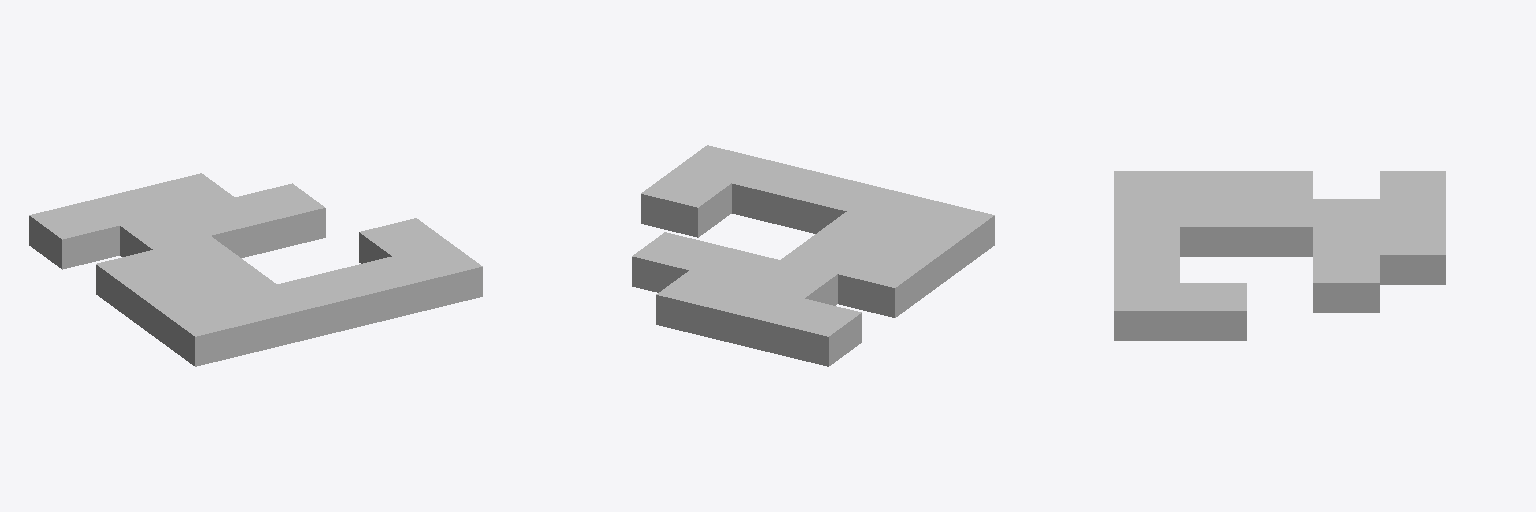
The model's file is 88f_block.obj.
3 renders of one model, left to right at view 1: azimuth 30°, elevation 25°; view 2: azimuth 150°, elevation 25°; view 3: azimuth 270°, elevation 25°, orthographic.
Visible parts, largest first — view 1: foil.block.0.4_block.5530, foil.block.0.0_block.5526, foil.block.4.0_block.5541, foil.block.2.0_block.5536, foil.block.3.3_block.5540, foil.block.1.0_block.5531, foil.block.3.0_block.5539, foil.block.2.3_block.5537, foil.block.0.2_block.5528, foil.block.0.1_block.5527, foil.block.4.1_block.5542, foil.block.1.3_block.5534 (+4 smaller); view 2: foil.block.4.1_block.5542, foil.block.0.4_block.5530, foil.block.0.2_block.5528, foil.block.2.4_block.5538, foil.block.1.4_block.5535, foil.block.3.0_block.5539, foil.block.2.0_block.5536, foil.block.3.3_block.5540, foil.block.0.1_block.5527, foil.block.0.0_block.5526, foil.block.1.3_block.5534, foil.block.1.1_block.5532 (+4 smaller); view 3: foil.block.1.1_block.5532, foil.block.3.3_block.5540, foil.block.4.1_block.5542, foil.block.1.2_block.5533, foil.block.2.4_block.5538, foil.block.4.0_block.5541, foil.block.0.1_block.5527, foil.block.1.3_block.5534, foil.block.2.3_block.5537, foil.block.0.0_block.5526, foil.block.0.2_block.5528, foil.block.0.4_block.5530 (+4 smaller).
Part boxes in pixels (left/top/right/bottom): foil.block.0.4_block.5530: left=29, top=201, right=119, bottom=269; foil.block.0.0_block.5526: left=162, top=298, right=252, bottom=366; foil.block.4.0_block.5541: left=392, top=242, right=482, bottom=310; foil.block.2.0_block.5536: left=277, top=270, right=367, bottom=338; foil.block.3.3_block.5540: left=235, top=183, right=325, bottom=251; foil.block.1.0_block.5531: left=220, top=285, right=309, bottom=352; foil.block.3.0_block.5539: left=335, top=257, right=424, bottom=324; foil.block.2.3_block.5537: left=177, top=198, right=267, bottom=257; foil.block.0.2_block.5528: left=96, top=250, right=184, bottom=317; foil.block.0.1_block.5527: left=129, top=274, right=218, bottom=341; foil.block.4.1_block.5542: left=359, top=218, right=448, bottom=263; foil.block.1.3_block.5534: left=120, top=212, right=209, bottom=256; foil.block.4.1_block.5542: left=641, top=169, right=731, bottom=237; foil.block.0.4_block.5530: left=771, top=298, right=861, bottom=366; foil.block.0.2_block.5528: left=838, top=250, right=927, bottom=317; foil.block.2.4_block.5538: left=656, top=270, right=746, bottom=338; foil.block.1.4_block.5535: left=714, top=285, right=803, bottom=352; foil.block.3.0_block.5539: left=732, top=159, right=821, bottom=226; foil.block.2.0_block.5536: left=789, top=173, right=878, bottom=233; foil.block.3.3_block.5540: left=632, top=232, right=721, bottom=292; foil.block.0.1_block.5527: left=871, top=226, right=961, bottom=293; foil.block.0.0_block.5526: left=904, top=201, right=994, bottom=268; foil.block.1.3_block.5534: left=747, top=260, right=837, bottom=305; foil.block.1.1_block.5532: left=814, top=212, right=903, bottom=249; foil.block.1.1_block.5532: left=1180, top=199, right=1246, bottom=256; foil.block.3.3_block.5540: left=1313, top=255, right=1379, bottom=312; foil.block.4.1_block.5542: left=1180, top=283, right=1246, bottom=340; foil.block.1.2_block.5533: left=1247, top=199, right=1312, bottom=256; foil.block.2.4_block.5538: left=1380, top=227, right=1445, bottom=284; foil.block.4.0_block.5541: left=1114, top=283, right=1179, bottom=340; foil.block.0.1_block.5527: left=1180, top=171, right=1246, bottom=198; foil.block.1.3_block.5534: left=1313, top=199, right=1379, bottom=226; foil.block.2.3_block.5537: left=1313, top=227, right=1379, bottom=254; foil.block.0.0_block.5526: left=1114, top=171, right=1179, bottom=198; foil.block.0.2_block.5528: left=1247, top=171, right=1312, bottom=198; foil.block.0.4_block.5530: left=1380, top=171, right=1445, bottom=198.
Size of the model in its own units: 10 by 1 by 10.